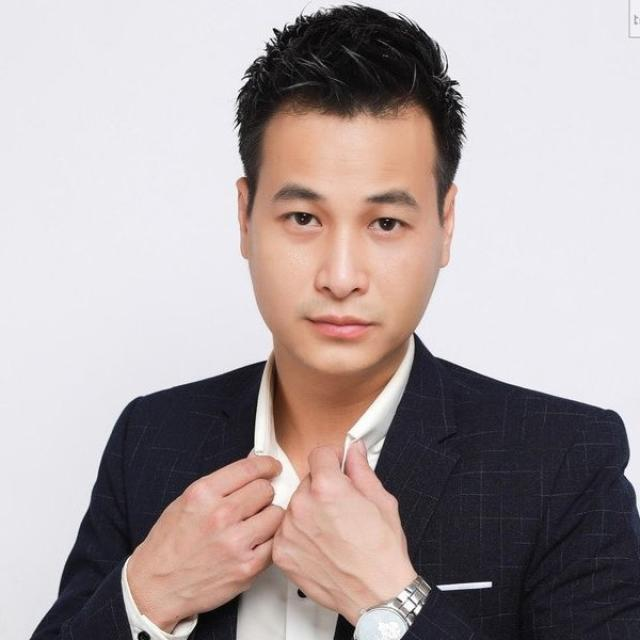Nonhelmet: (225, 2, 472, 377)
